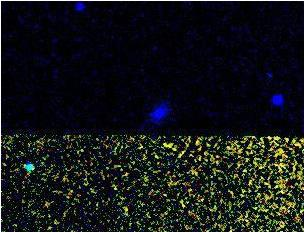star: (16, 158, 46, 188)
